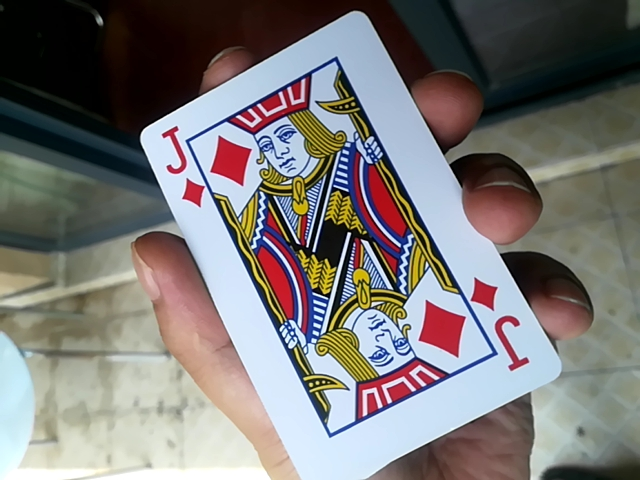fk j: (134, 17, 540, 480)
